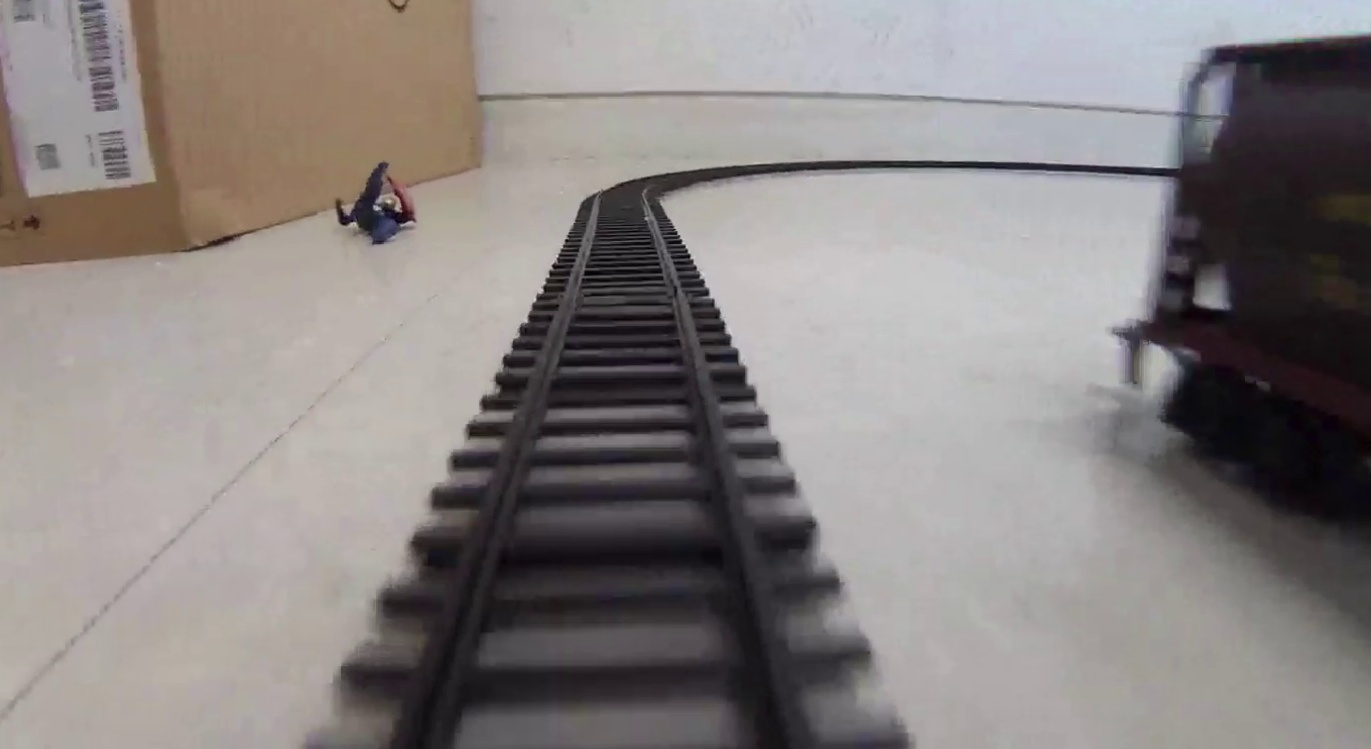people: (335, 157, 417, 245)
